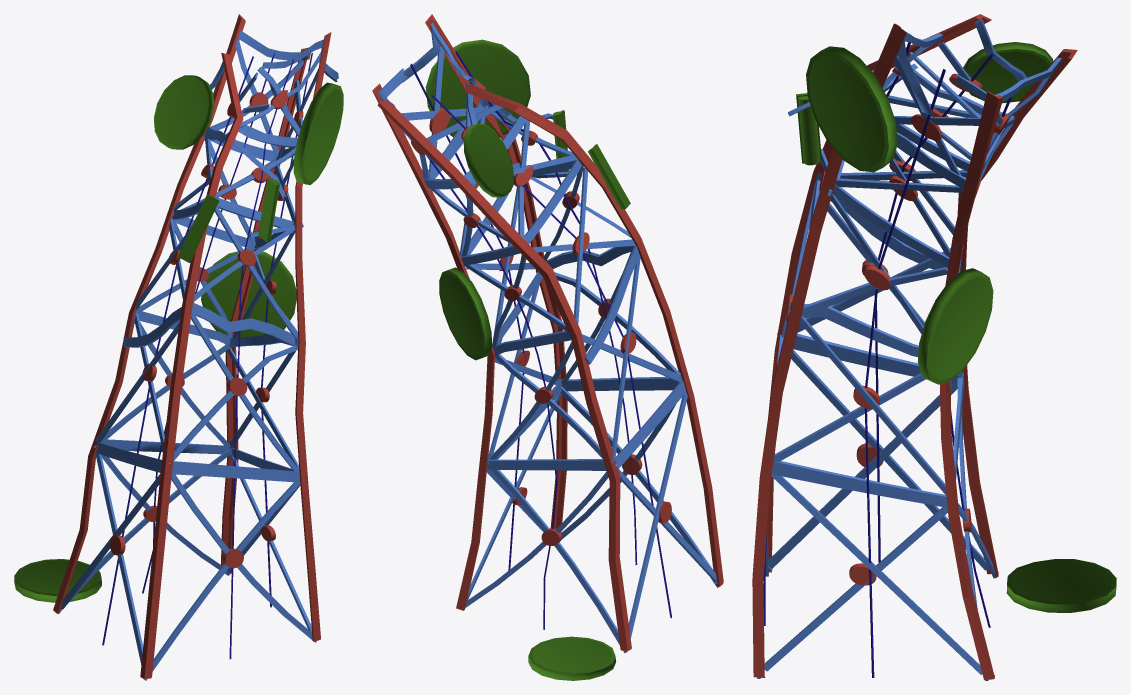
File: Antenne01.fbx
3 renders of one model, left to right at view 1: azimuth 30°, elevation 25°; view 2: azimuth 150°, elevation 25°; view 3: azimuth 270°, elevation 25°, orthographic. The views are drawn at different scales.
Visible parts, largest first — view 1: Antenne01; view 2: Antenne01; view 3: Antenne01.
Boxes of the visible parts, x1,y1,x2,y2 form: Antenne01: (14,14,343,680); Antenne01: (372,14,723,680); Antenne01: (752,14,1116,680).
Size of the model in its own units: 660 by 1306 by 616.
